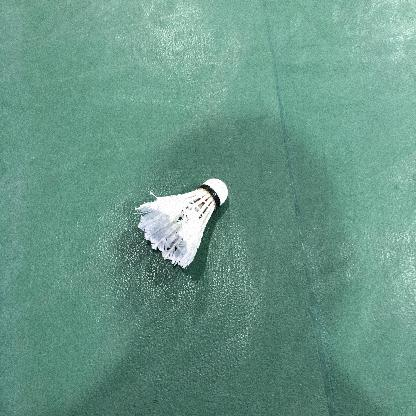ball_single: (135, 179, 228, 268)
